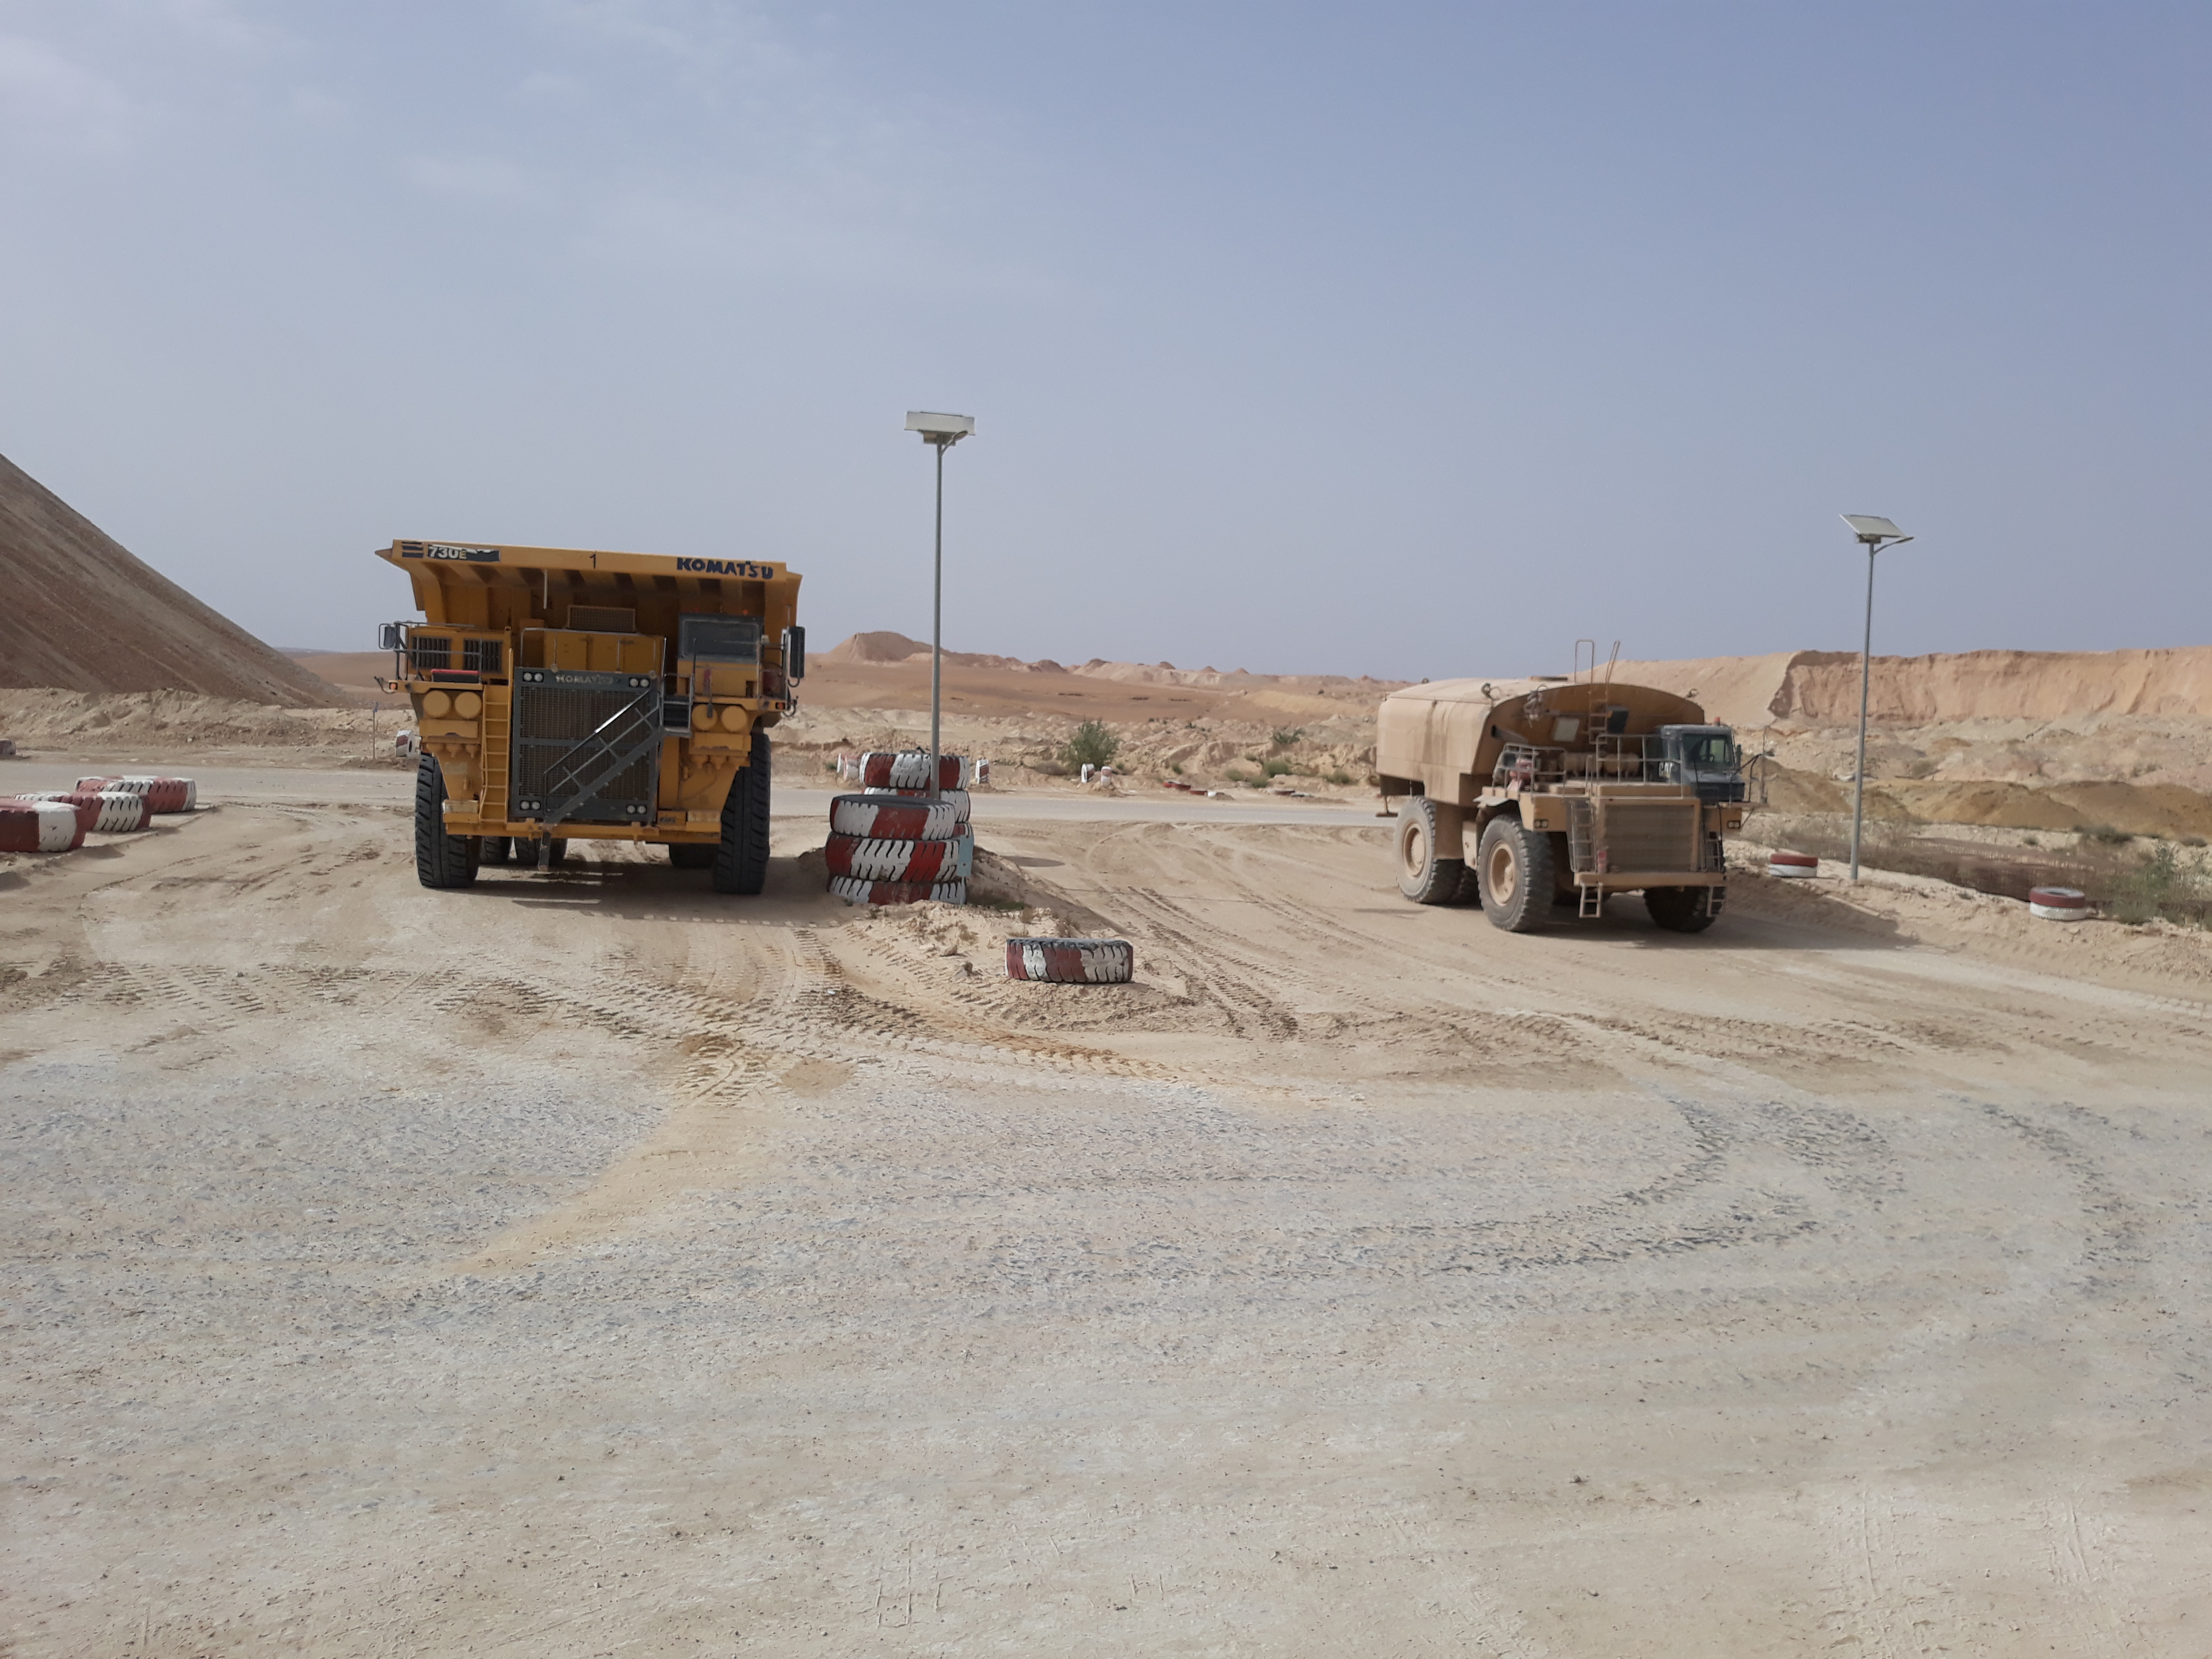camion: (348, 502, 833, 917)
